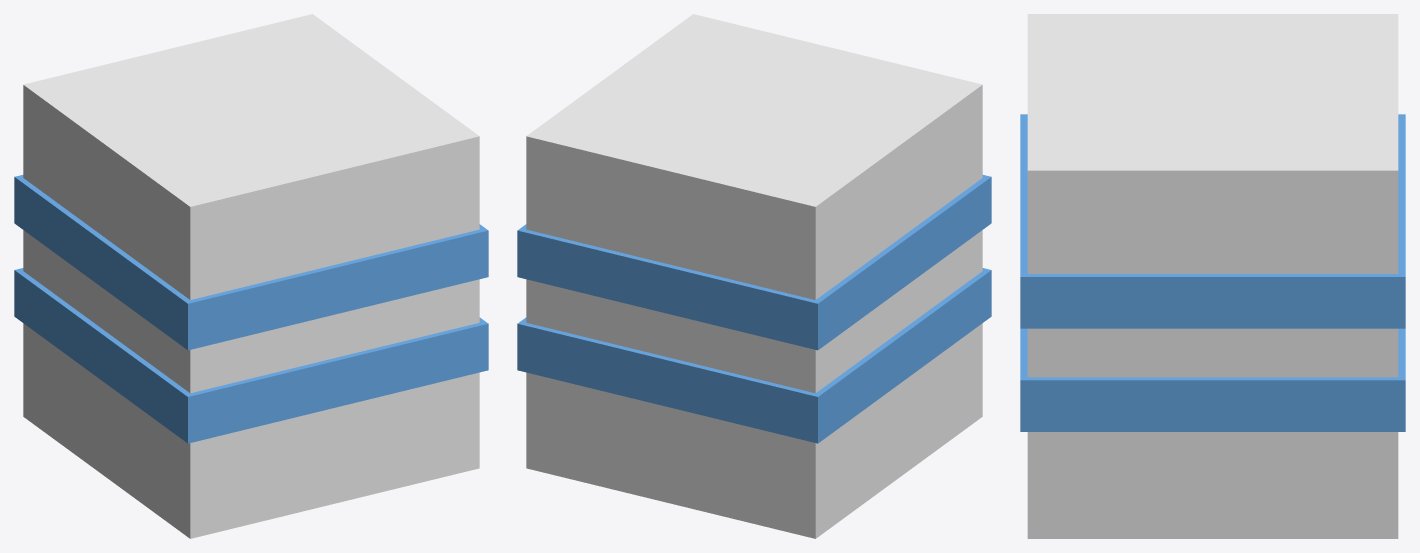
Rendered from futebol_canela.glb.
The picture shows the model from 3 angles, left to right: view 1: azimuth 30°, elevation 25°; view 2: azimuth 150°, elevation 25°; view 3: azimuth 270°, elevation 25°; orthographic projection. The views are drawn at different scales.
Visible parts, largest first — view 1: futebol_canela; view 2: futebol_canela; view 3: futebol_canela.
Boxes of the visible parts, left/top/right/bottom form: futebol_canela: left=14, top=14, right=488, bottom=538; futebol_canela: left=517, top=14, right=991, bottom=538; futebol_canela: left=1020, top=14, right=1405, bottom=538.
Bounding box in the file's own units: 0.27 × 0.285 × 0.27.
